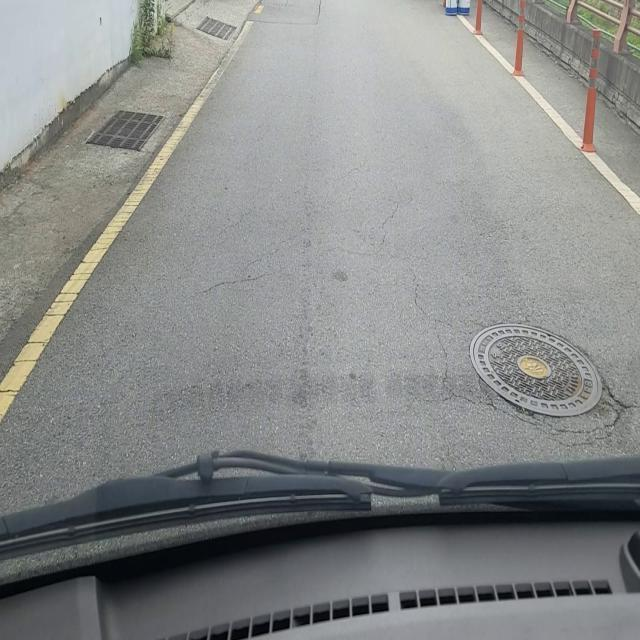pothole: (468, 322, 618, 426)
